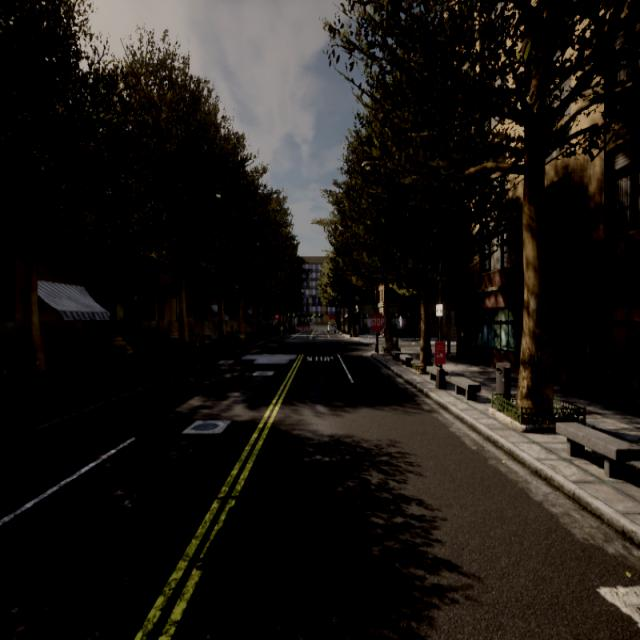stop sign: (367, 308, 388, 354), (368, 310, 387, 335)
